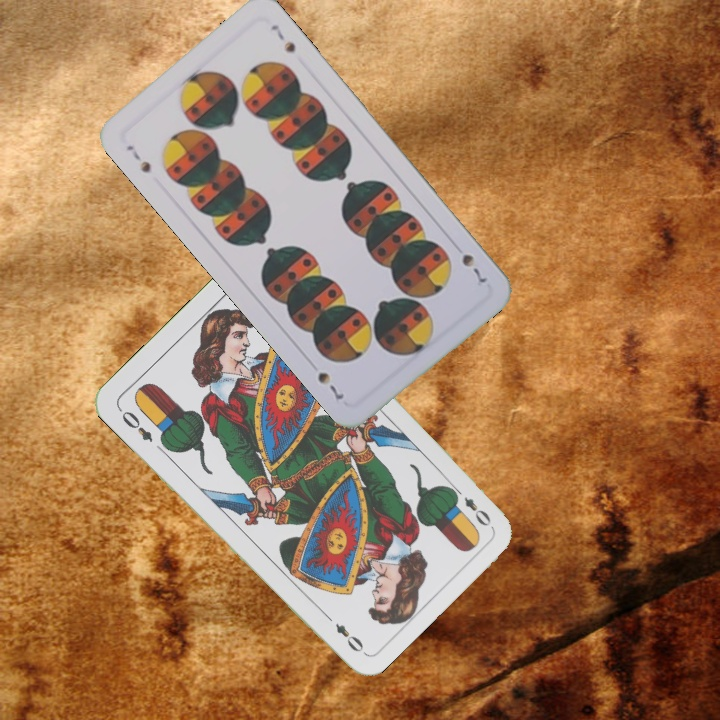EO: (448, 482, 494, 529), (114, 404, 156, 445)
S7: (457, 250, 489, 290), (122, 141, 154, 176)
